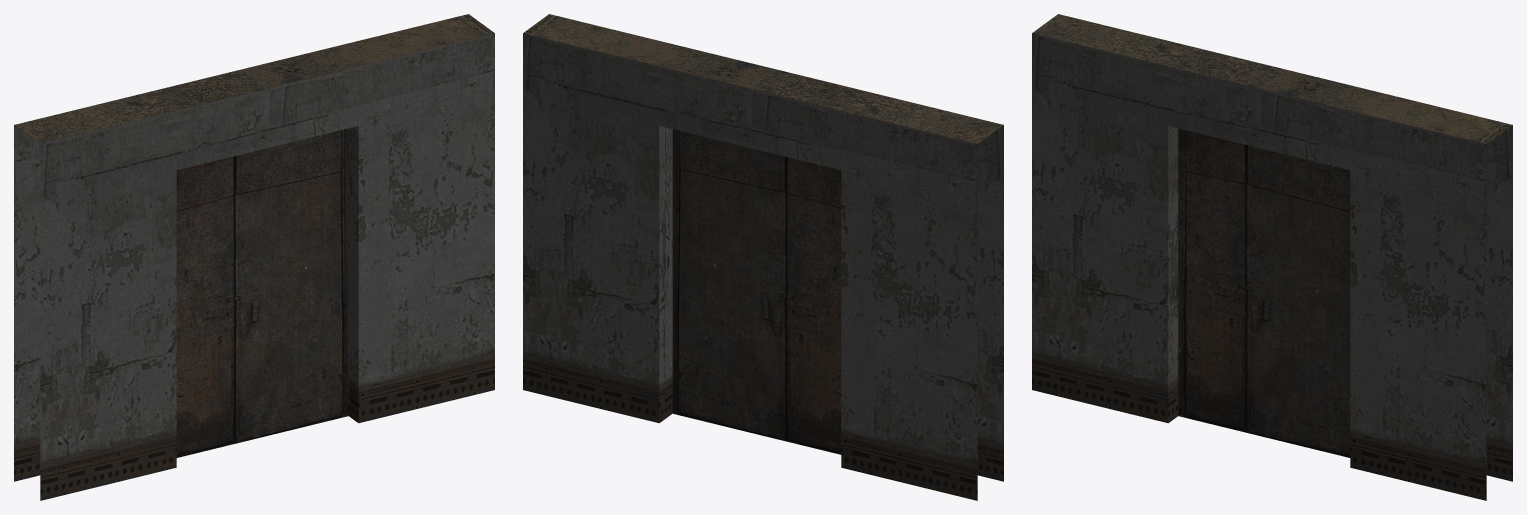
File: doorway_rtx_1_wide.dae
3 renders of one model, left to right at view 1: azimuth 30°, elevation 25°; view 2: azimuth 150°, elevation 25°; view 3: azimuth 330°, elevation 25°, orthographic.
Parts seen in each view (by area): view 1: doorway_rtx_1_wide, door_rtx_1_piece_2, door_rtx_1_piece_1; view 2: doorway_rtx_1_wide, door_rtx_1_piece_2, door_rtx_1_piece_1; view 3: doorway_rtx_1_wide, door_rtx_1_piece_2, door_rtx_1_piece_1.
Boxes of the visible parts, x1,y1,x2,y2 form: doorway_rtx_1_wide: [14, 14, 494, 500]; door_rtx_1_piece_2: [235, 128, 348, 443]; door_rtx_1_piece_1: [176, 156, 234, 457]; doorway_rtx_1_wide: [523, 14, 1003, 500]; door_rtx_1_piece_2: [672, 129, 786, 441]; door_rtx_1_piece_1: [786, 157, 841, 454]; doorway_rtx_1_wide: [1032, 14, 1512, 500]; door_rtx_1_piece_2: [1246, 145, 1350, 457]; door_rtx_1_piece_1: [1178, 128, 1246, 432].
Bounding box in the file's own units: 4 × 0.4 × 3.
Materials: 3 (3 with a texture image).
